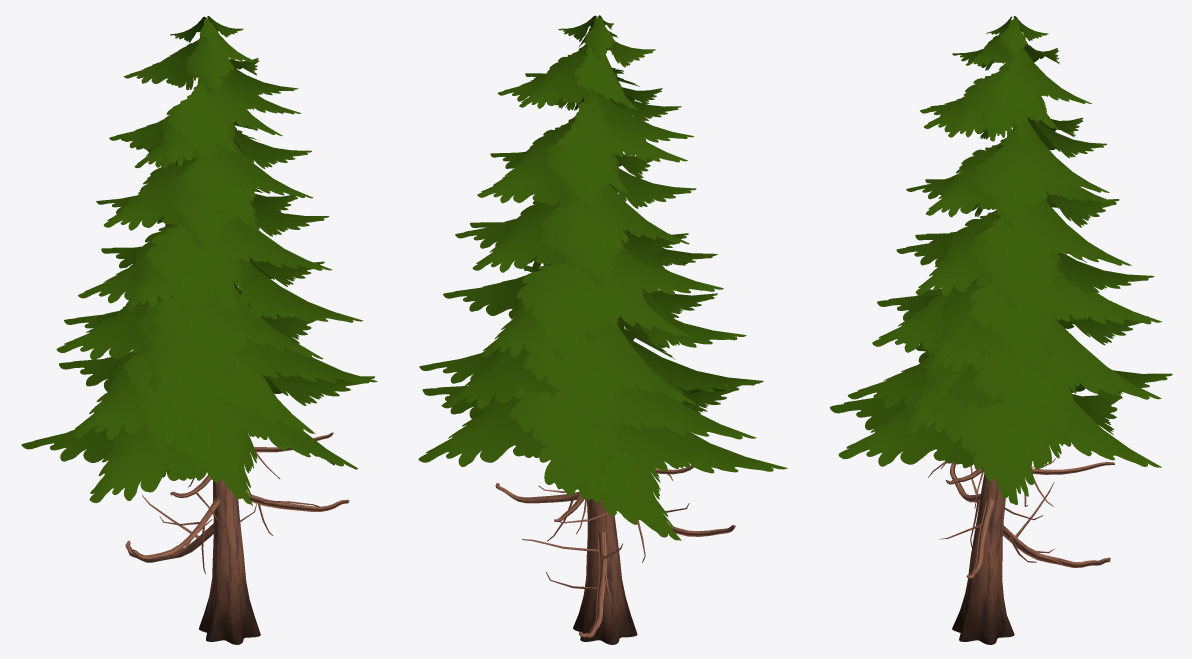
File: Pine_4.gltf
3 views of the same model, side by side, from view 1: azimuth 30°, elevation 25°; view 2: azimuth 150°, elevation 25°; view 3: azimuth 270°, elevation 25° (orthographic). The views are drawn at different scales.
Visible parts, largest first — view 1: Pine_4; view 2: Pine_4; view 3: Pine_4.
Part boxes in pixels (left/top/right/bottom): Pine_4: left=21, top=16, right=377, bottom=644; Pine_4: left=418, top=15, right=787, bottom=644; Pine_4: left=830, top=16, right=1172, bottom=644.
Size of the model in its own units: 5.8 by 10.24 by 5.37.
Materials: 2 (2 with a texture image).
